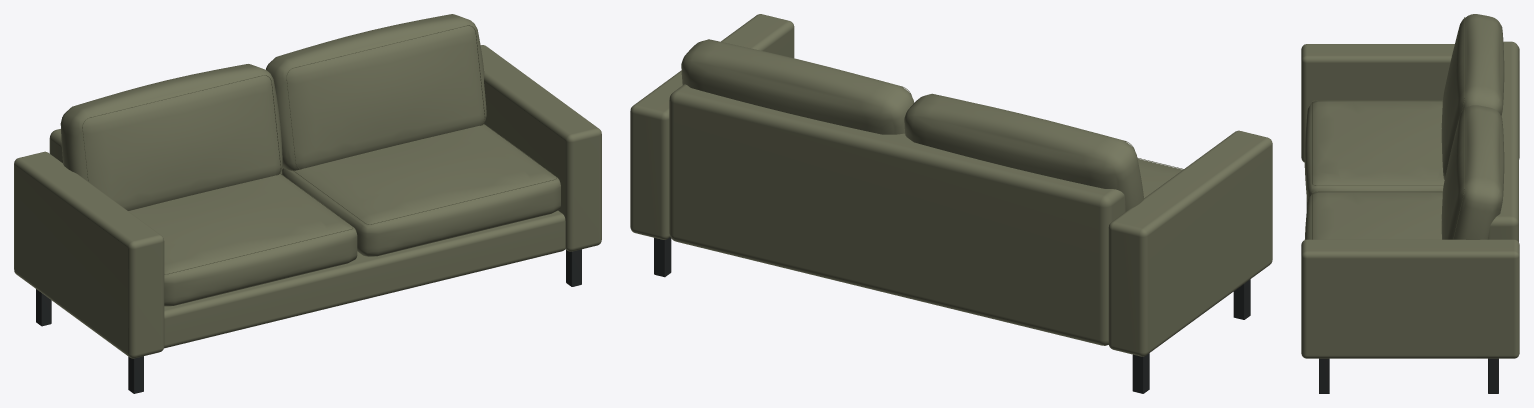
The model's file is sofa-olive.glb.
3 renders of one model, left to right at view 1: azimuth 30°, elevation 25°; view 2: azimuth 150°, elevation 25°; view 3: azimuth 270°, elevation 25°, orthographic. The views are drawn at different scales.
Parts seen in each view (by area): view 1: FORMA_Optimized; view 2: FORMA_Optimized; view 3: FORMA_Optimized.
Part boxes in pixels (x1,y1,x2,y2): FORMA_Optimized: (14,14,601,393); FORMA_Optimized: (630,14,1272,393); FORMA_Optimized: (1301,14,1519,393).
Bounding box in the file's own units: 2.2 × 0.9626 × 0.96.
